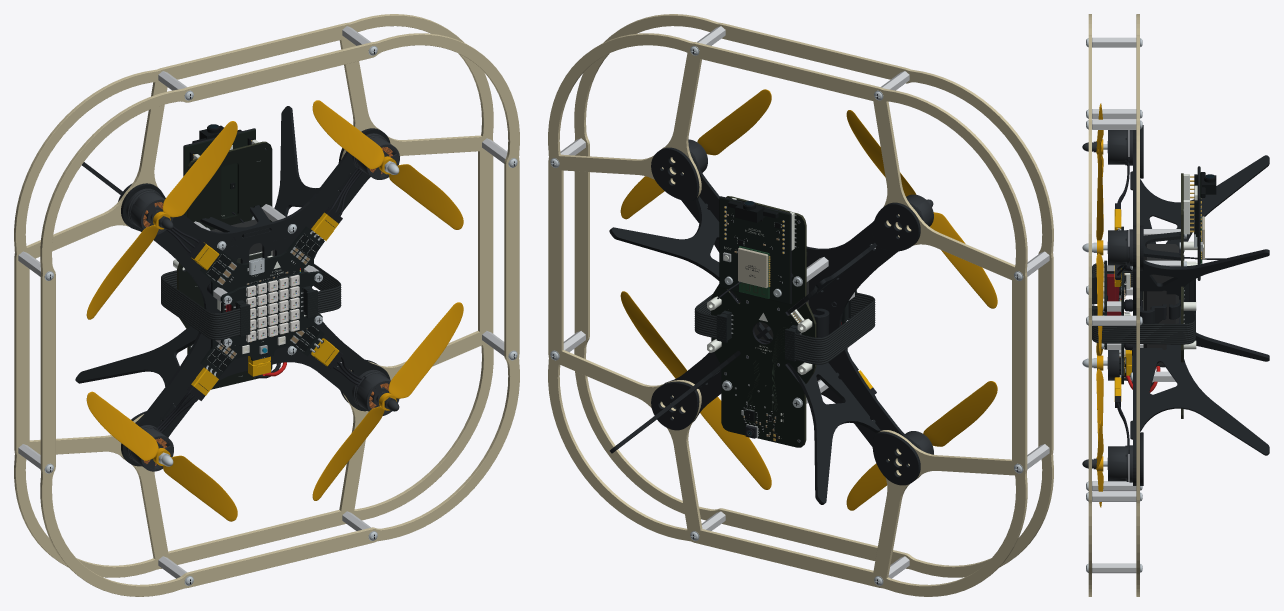
Rendered from pioneer-basic.glb.
The picture shows the model from 3 angles, left to right: view 1: azimuth 30°, elevation 25°; view 2: azimuth 150°, elevation 25°; view 3: azimuth 270°, elevation 25°; orthographic projection. The views are drawn at different scales.
Visible parts, largest first — view 1: frame_mesh, led_module_mesh, rotor_2_mesh, rotor_3_mesh, rotor_0_mesh, rotor_1_mesh, esp32_module_mesh; view 2: frame_mesh, esp32_module_mesh, rotor_3_mesh, rotor_1_mesh, rotor_0_mesh, rotor_2_mesh; view 3: frame_mesh, esp32_module_mesh, rotor_0_mesh, rotor_1_mesh, rotor_3_mesh, led_module_mesh, rotor_2_mesh.
Part boxes in pixels (x1=…): frame_mesh: x1=14, y1=14, x2=519, y2=596; led_module_mesh: x1=220, y1=271, x2=322, y2=346; rotor_2_mesh: x1=86, y1=121, x2=237, y2=319; rotor_3_mesh: x1=312, y1=302, x2=463, y2=500; rotor_0_mesh: x1=312, y1=100, x2=463, y2=229; rotor_1_mesh: x1=86, y1=391, x2=237, y2=521; esp32_module_mesh: x1=183, y1=124, x2=255, y2=229; frame_mesh: x1=548, y1=14, x2=1053, y2=596; esp32_module_mesh: x1=719, y1=196, x2=791, y2=304; rotor_3_mesh: x1=620, y1=291, x2=771, y2=489; rotor_1_mesh: x1=846, y1=381, x2=997, y2=510; rotor_0_mesh: x1=620, y1=89, x2=771, y2=219; rotor_2_mesh: x1=846, y1=110, x2=997, y2=308; frame_mesh: x1=1086, y1=14, x2=1269, y2=596; esp32_module_mesh: x1=1179, y1=166, x2=1216, y2=280; rotor_0_mesh: x1=1082, y1=141, x2=1107, y2=354; rotor_1_mesh: x1=1082, y1=343, x2=1107, y2=442; rotor_3_mesh: x1=1082, y1=420, x2=1107, y2=507; led_module_mesh: x1=1101, y1=260, x2=1115, y2=349; rotor_2_mesh: x1=1082, y1=103, x2=1107, y2=176.
Bounding box in the file's own units: 0.5685 × 0.5685 × 0.211.
